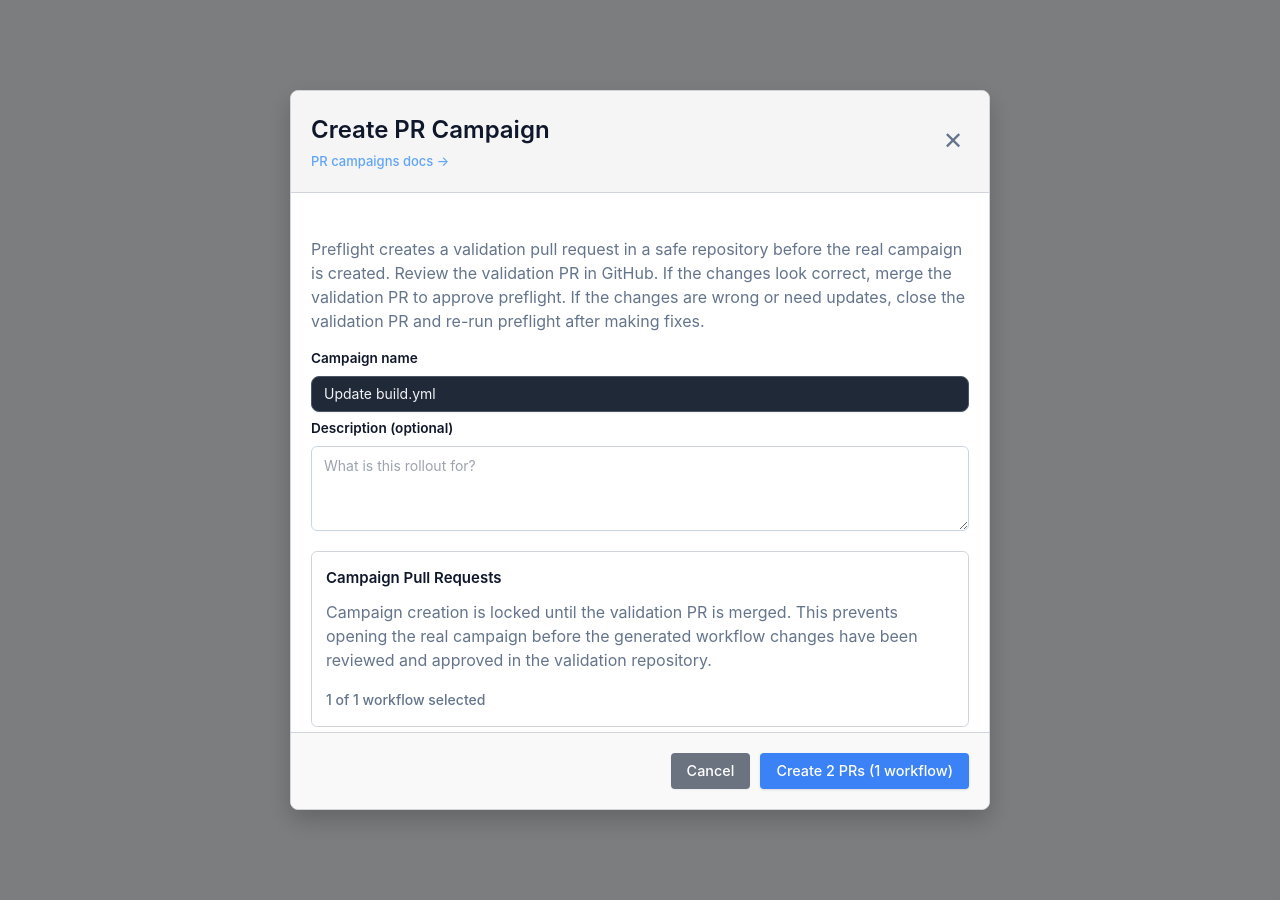
Test: CreatePRModal › failure reasons on the results screen › shows why GitHub refused the PR instead of a bare Error
The image size is (1280, 900).
Click the button "Create 2 PRs (1 workflow)" at (865,771), box [760, 753, 969, 789]
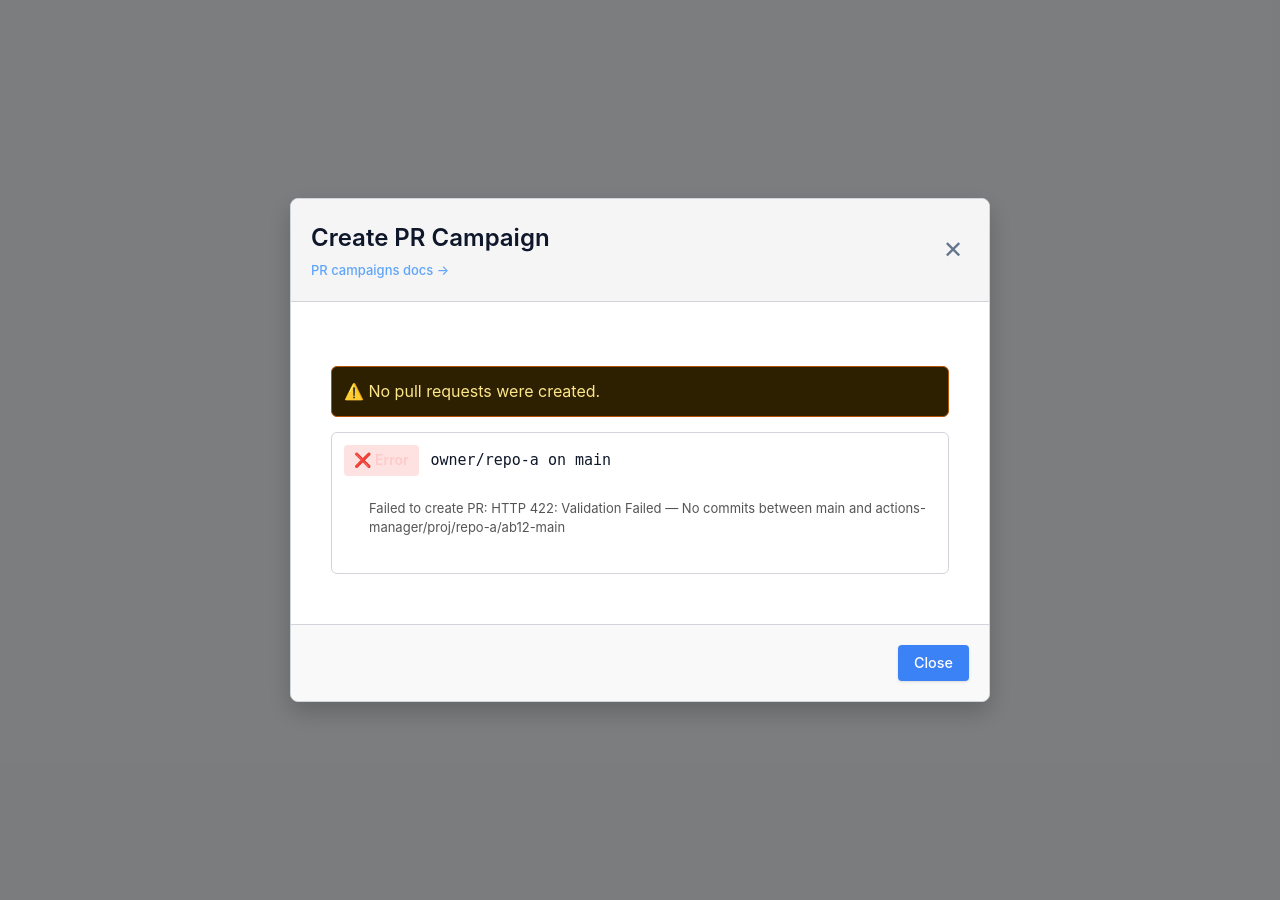
expect the list item "No commits between main and actions-manager" is shown: met, box [369, 500, 926, 535]
expect the text "owner/repo-a on main" is shown: met, box [430, 451, 611, 469]
